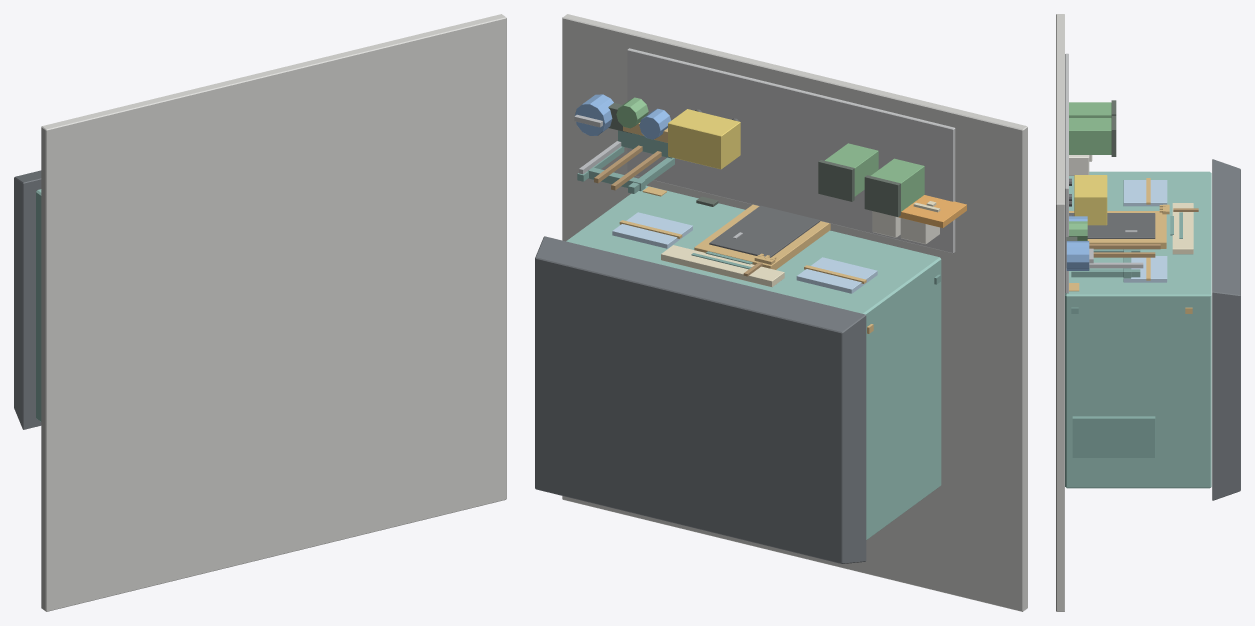
The model's file is cleaningdepot.fbx.
The picture shows the model from 3 angles, left to right: view 1: azimuth 30°, elevation 25°; view 2: azimuth 150°, elevation 25°; view 3: azimuth 270°, elevation 25°; orthographic projection. The views are drawn at different scales.
Visible parts, largest first — view 1: GroundBase, Roof_DarkMetal, MainHall; view 2: Roof_DarkMetal, GroundBase, MainHall, ConcreteApron, CleaningCart, FrontDoor, ServiceSign, FrontDoor_Frame, FrontWindows_01, FrontWindows_02, TrashBins_01, TrashBins_02 (+8 smaller); view 3: MainHall, Roof_DarkMetal, GroundBase, ToolRack, CleaningCart, TrashBins_02, FrontDoor, FrontWindows_01, ServiceSign, ConcreteApron, FrontDoor_Frame, FrontWindows_02 (+8 smaller).
Part boxes in pixels (x1=…): GroundBase: x1=41, y1=14, x2=506, y2=611; Roof_DarkMetal: x1=14, y1=170, x2=41, y2=429; MainHall: x1=36, y1=189, x2=41, y2=421; Roof_DarkMetal: x1=535, y1=236, x2=866, y2=563; GroundBase: x1=562, y1=14, x2=1027, y2=611; MainHall: x1=566, y1=185, x2=941, y2=539; ConcreteApron: x1=627, y1=48, x2=955, y2=253; CleaningCart: x1=668, y1=109, x2=740, y2=169; FrontDoor: x1=709, y1=205, x2=820, y2=257; ServiceSign: x1=661, y1=245, x2=784, y2=287; FrontDoor_Frame: x1=694, y1=204, x2=830, y2=269; FrontWindows_01: x1=796, y1=257, x2=877, y2=293; FrontWindows_02: x1=612, y1=212, x2=692, y2=248; TrashBins_01: x1=871, y1=158, x2=924, y2=211; TrashBins_02: x1=825, y1=143, x2=878, y2=196; MainHall: x1=1065, y1=171, x2=1211, y2=488; Roof_DarkMetal: x1=1212, y1=159, x2=1240, y2=500; GroundBase: x1=1056, y1=14, x2=1064, y2=611; ToolRack: x1=1072, y1=416, x2=1155, y2=457; CleaningCart: x1=1074, y1=175, x2=1107, y2=225; TrashBins_02: x1=1069, y1=118, x2=1111, y2=154; FrontDoor: x1=1069, y1=213, x2=1155, y2=238; FrontWindows_01: x1=1123, y1=180, x2=1167, y2=206; ServiceSign: x1=1172, y1=203, x2=1193, y2=254; ConcreteApron: x1=1065, y1=53, x2=1068, y2=293; FrontDoor_Frame: x1=1069, y1=211, x2=1166, y2=248; FrontWindows_02: x1=1123, y1=256, x2=1167, y2=282.
Size of the model in its own units: 600 by 600 by 246.
